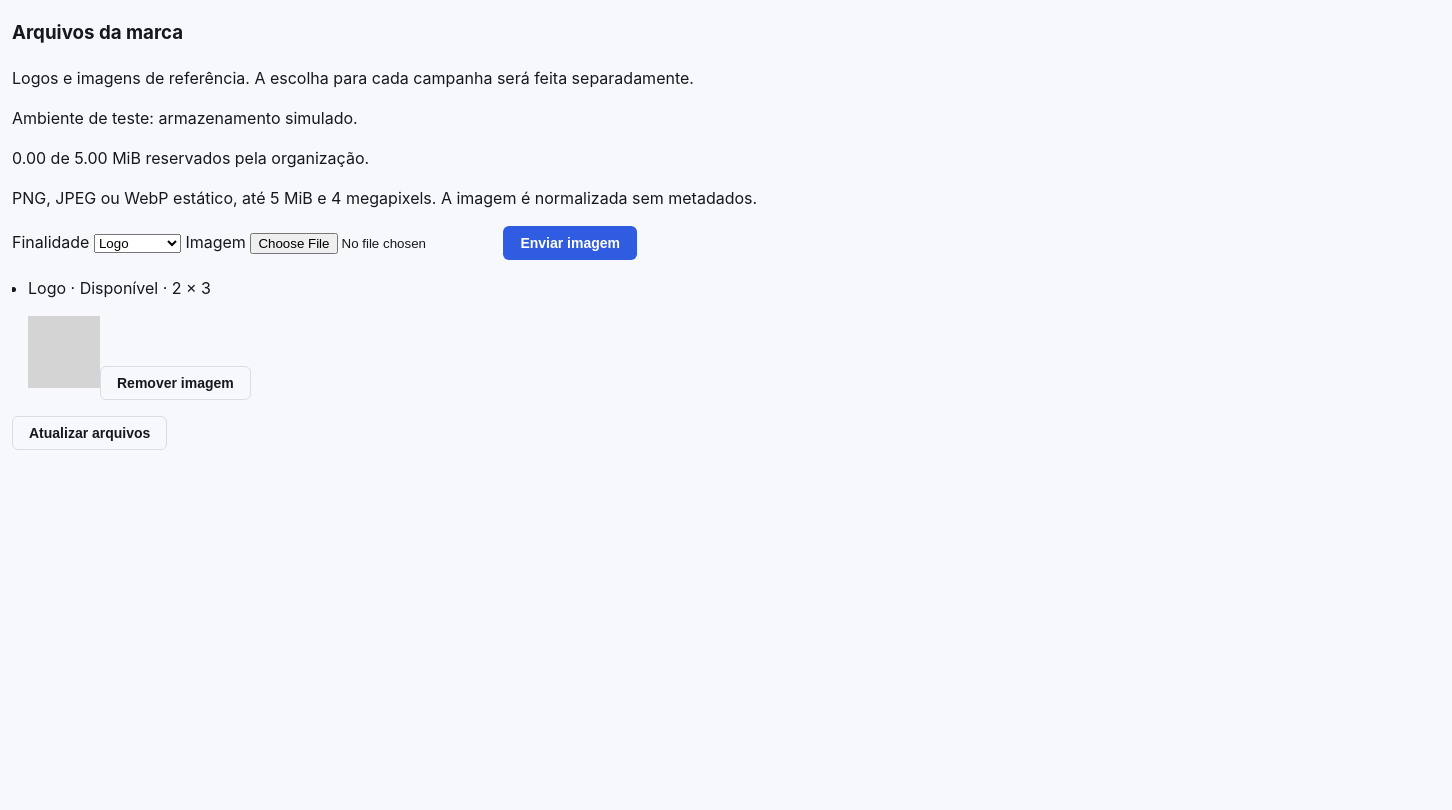
it: BrandAssetsPanel › delete requires explicit confirmation and then removes preview
Click the button "Remover imagem": click(175, 382) [100,366,251,400]
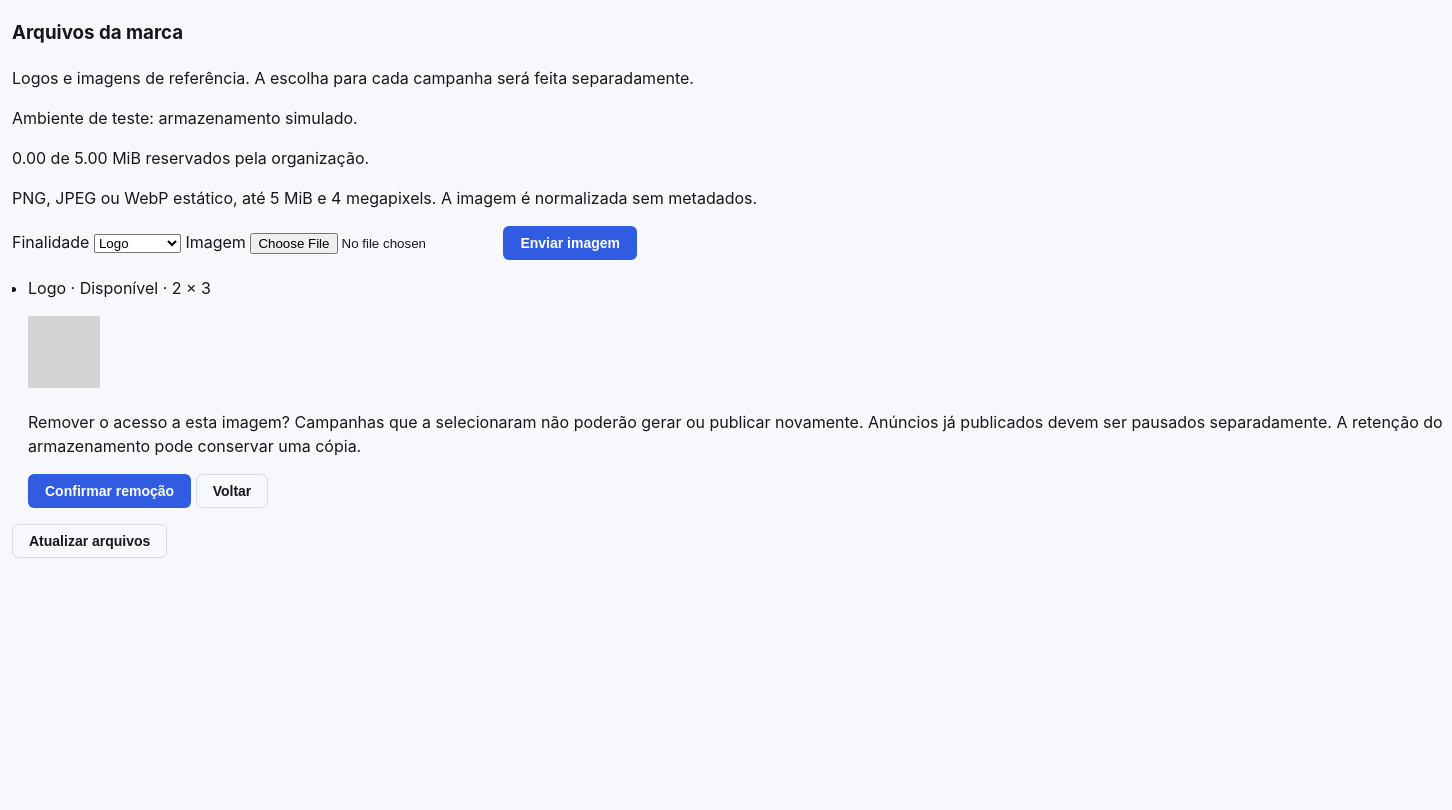
Click the button "Confirmar remoção": click(110, 490) [28,474,191,508]
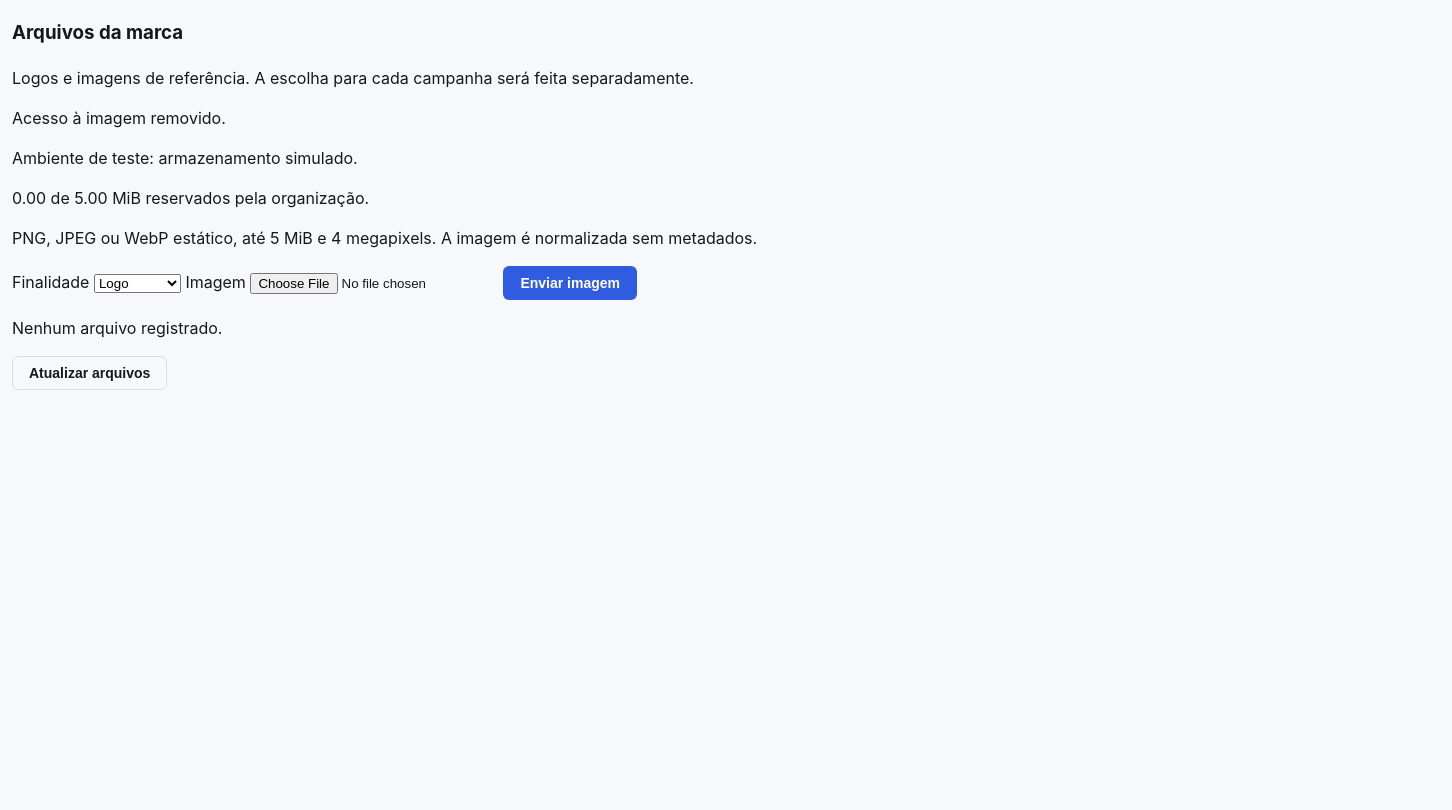
Check: the text "Nenhum arquivo registrado." is shown, box [12,318,222,338]
Check: the picture is gone
